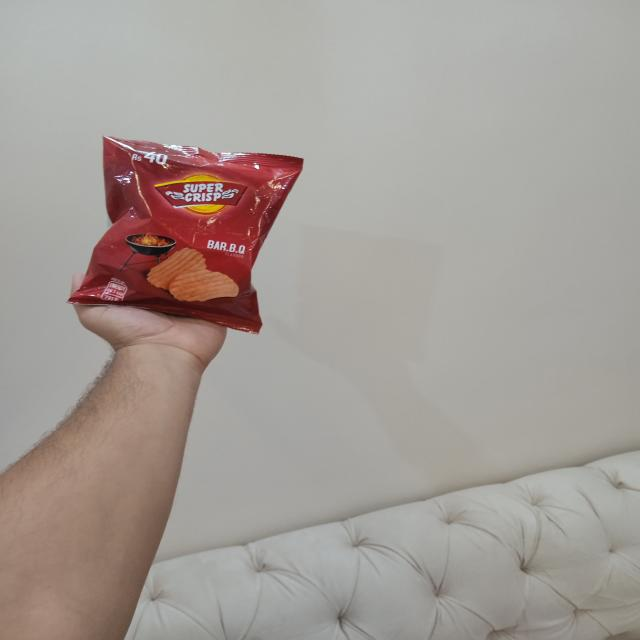Plastic: (72, 129, 306, 337)
